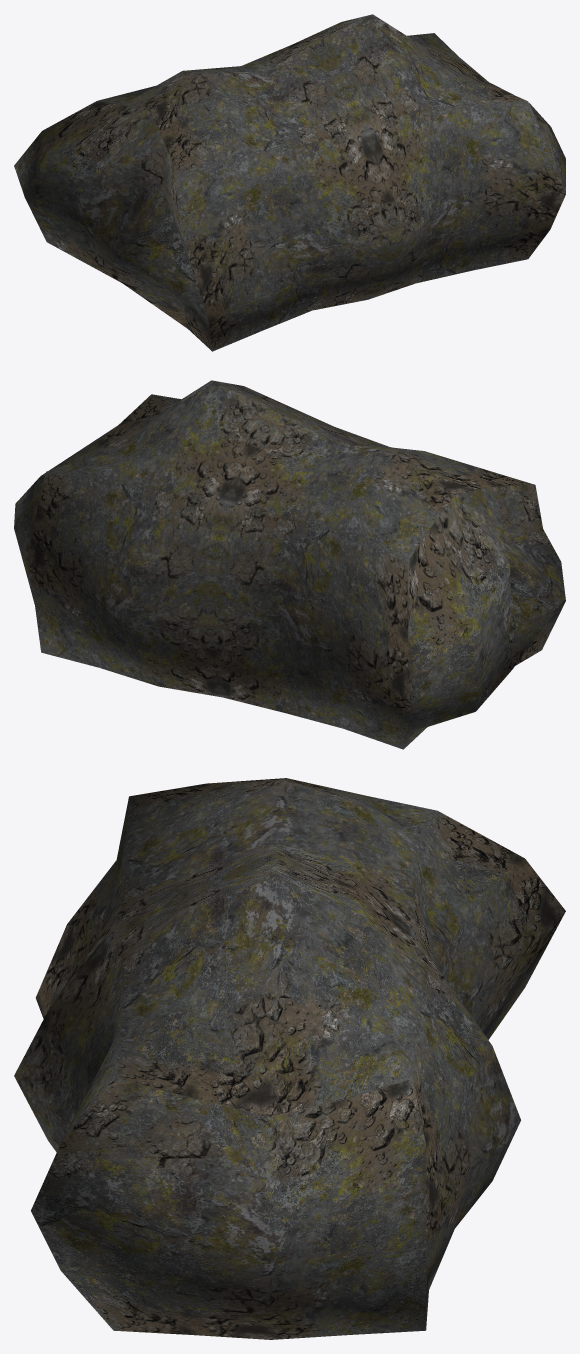
The model's file is Rock02.fbx.
3 renders of one model, top to bottom at view 1: azimuth 30°, elevation 25°; view 2: azimuth 150°, elevation 25°; view 3: azimuth 270°, elevation 25°, orthographic. The views are drawn at different scales.
Parts seen in each view (by area): view 1: Rock02; view 2: Rock02; view 3: Rock02.
Boxes of the visible parts, x1=… form: Rock02: x1=14, y1=14, x2=565, y2=351; Rock02: x1=14, y1=380, x2=565, y2=749; Rock02: x1=14, y1=778, x2=565, y2=1339.
Bounding box in the file's own units: 63.12 × 30 × 40.3.
